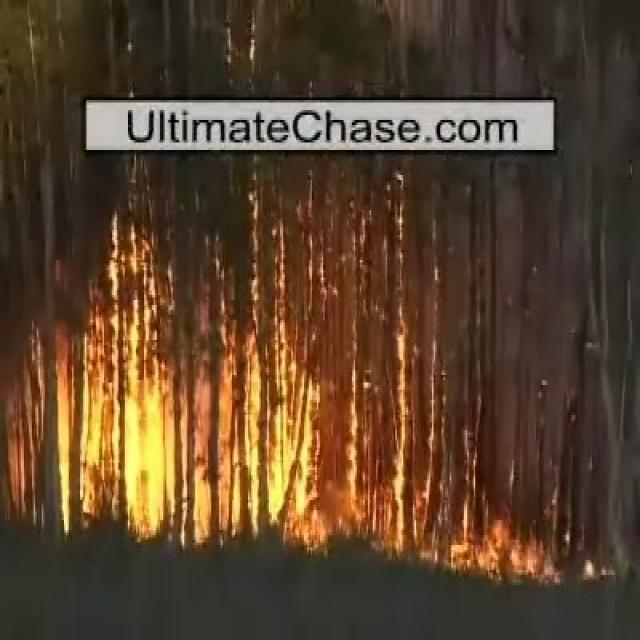fire: (126, 383, 172, 529), (271, 410, 310, 514)
